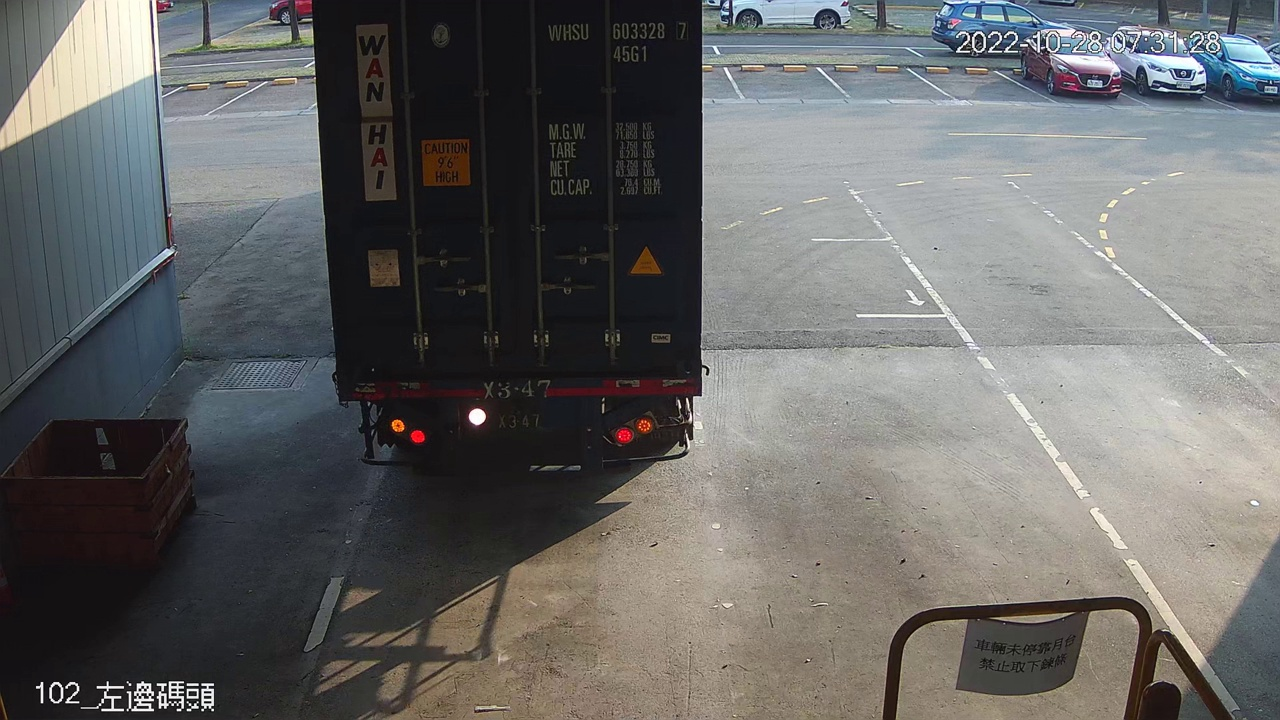container: (540, 16, 695, 70)
